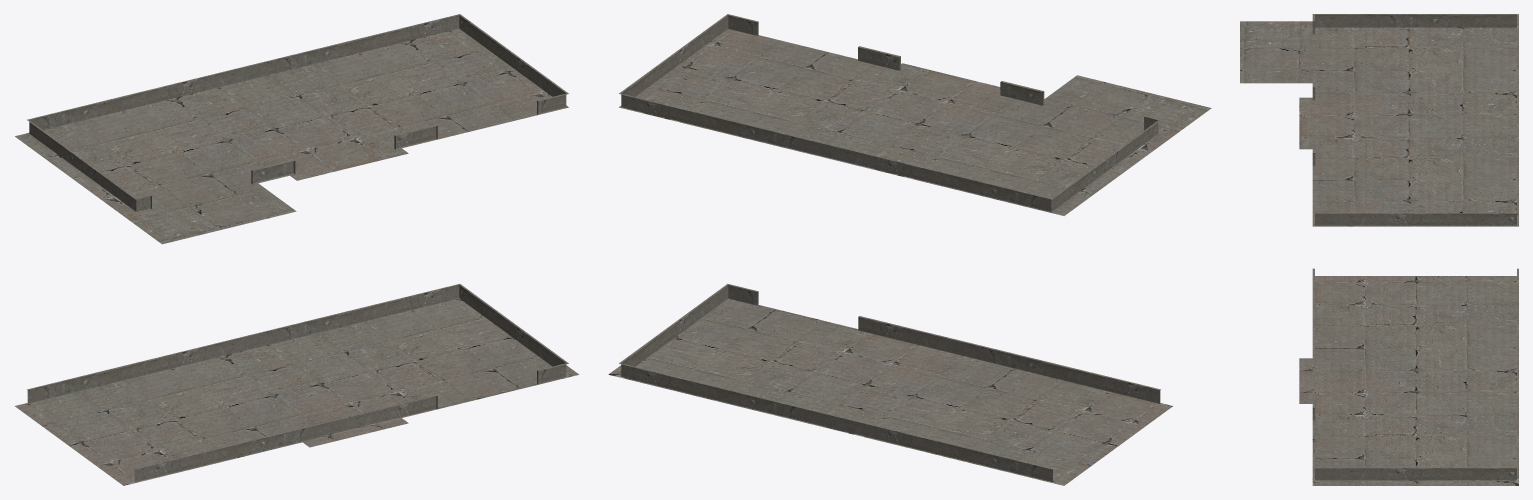
File: A2_Lobby_Floor.FBX
3 views of the same model, side by side, from view 1: azimuth 30°, elevation 25°; view 2: azimuth 150°, elevation 25°; view 3: azimuth 270°, elevation 25° (orthographic). The views are drawn at different scales.
Parts seen in each view (by area): view 1: A2_Lobby_Floor; view 2: A2_Lobby_Floor; view 3: A2_Lobby_Floor.
Part boxes in pixels (left/top/right/bottom): A2_Lobby_Floor: left=15, top=14, right=579, bottom=485; A2_Lobby_Floor: left=608, top=14, right=1211, bottom=485; A2_Lobby_Floor: left=1240, top=14, right=1518, bottom=485.
Bounding box in the file's own units: 566 × 336 × 318.
Materials: 1 (1 with a texture image).
